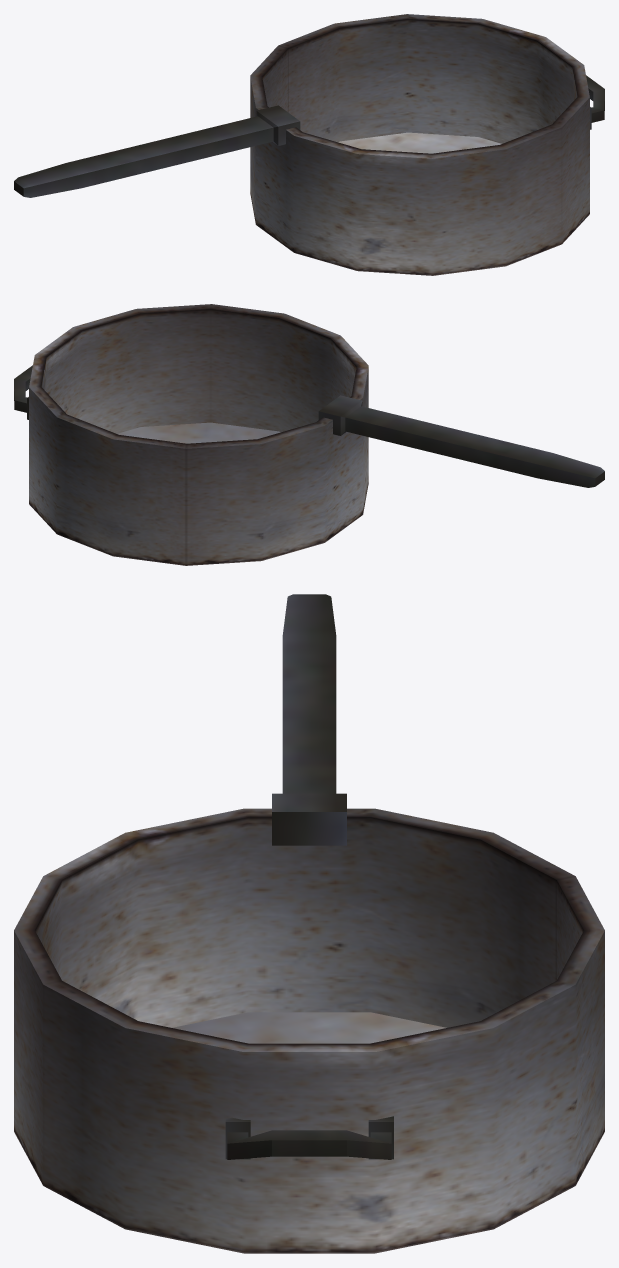
Rendered from Pan.fbx.
3 views of the same model, one above another, from view 1: azimuth 30°, elevation 25°; view 2: azimuth 150°, elevation 25°; view 3: azimuth 270°, elevation 25° (orthographic). The views are drawn at different scales.
Parts seen in each view (by area): view 1: Pan; view 2: Pan; view 3: Pan.
Part boxes in pixels (box(x1,y1,x2,y2)): Pan: box(14, 14, 604, 275); Pan: box(14, 304, 604, 565); Pan: box(14, 594, 604, 1253).
Bounding box in the file's own units: 0.2422 × 0.0491 × 0.1253.
